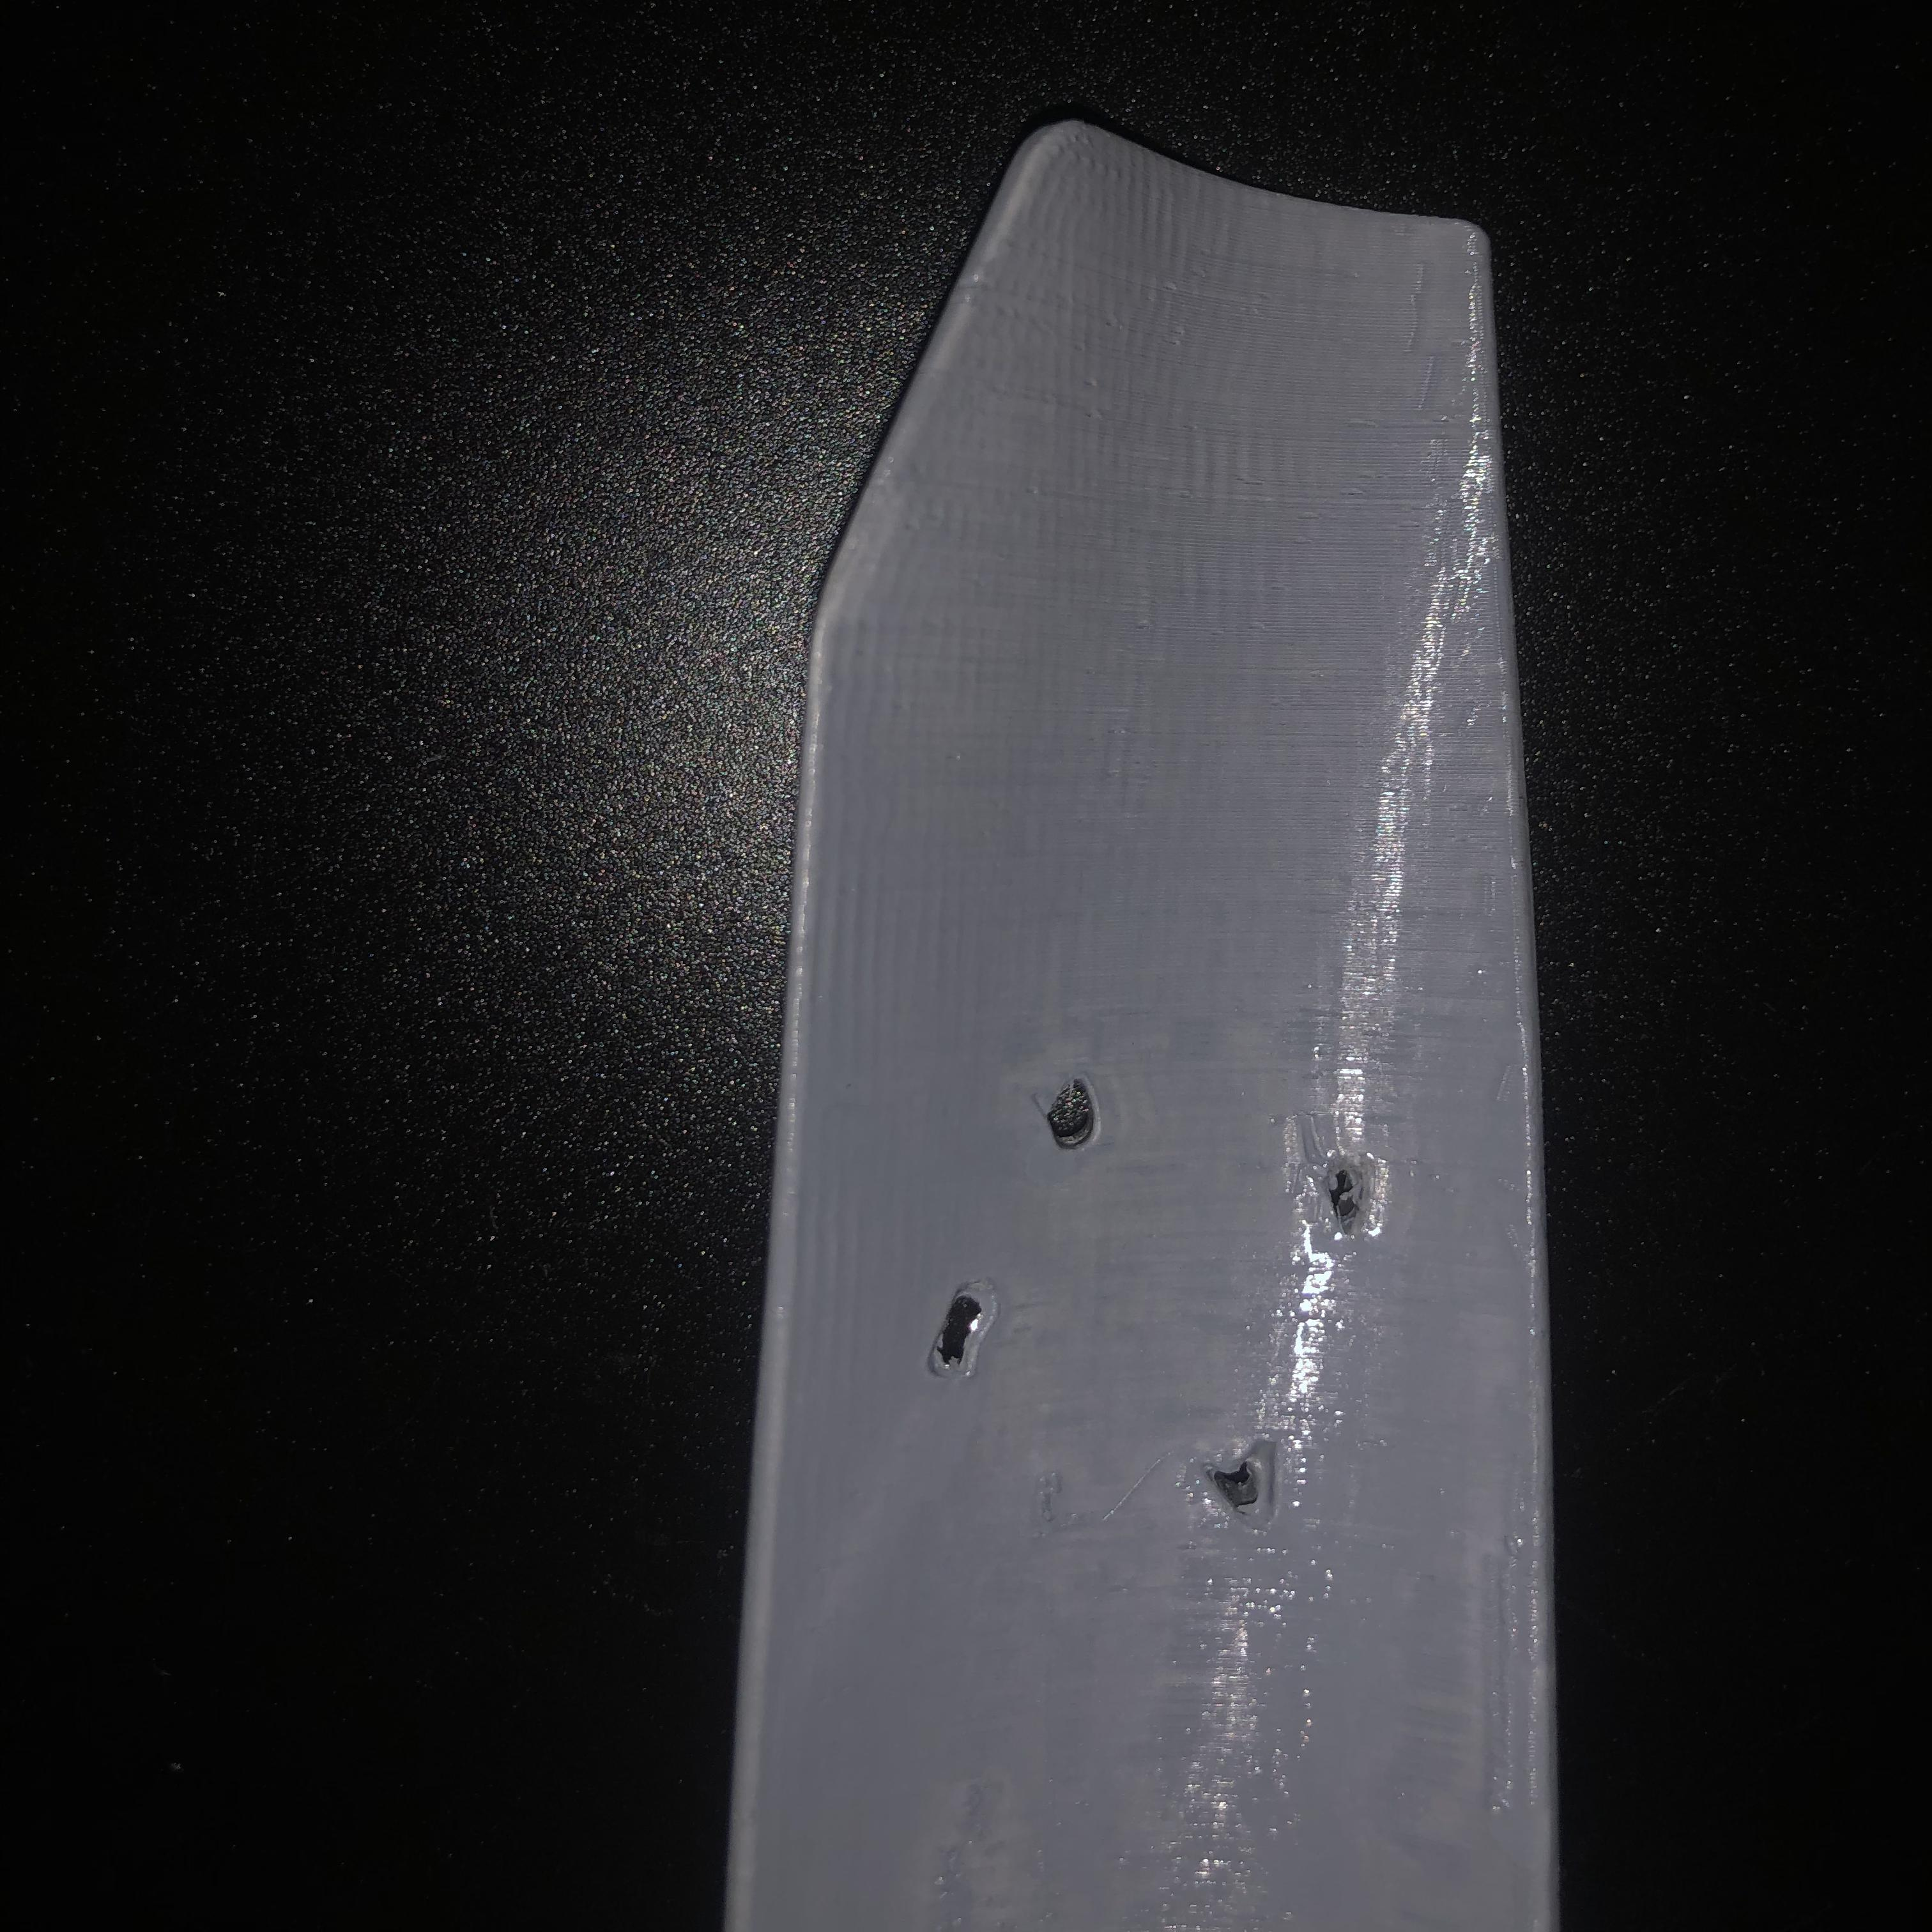breakdown: (938, 1079, 1391, 1536)
